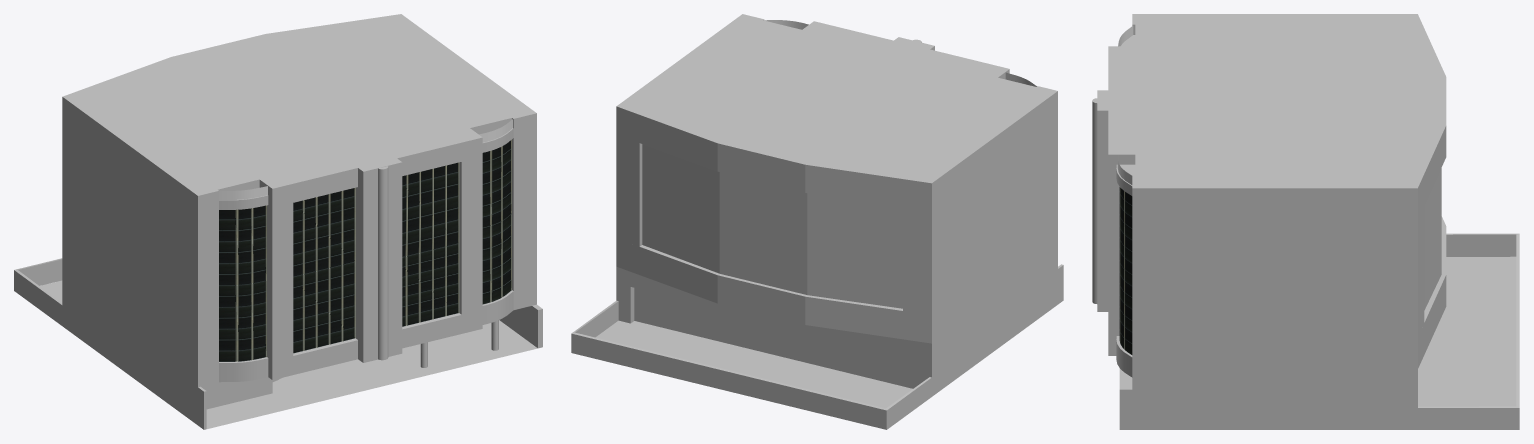
3 renders of one model, left to right at view 1: azimuth 30°, elevation 25°; view 2: azimuth 150°, elevation 25°; view 3: azimuth 270°, elevation 25°, orthographic. The views are drawn at different scales.
Visible parts, largest first — view 1: BB-050; view 2: BB-050; view 3: BB-050.
Part boxes in pixels (box(x1,y1,x2,y2)): BB-050: box(14, 14, 542, 429); BB-050: box(571, 14, 1063, 429); BB-050: box(1092, 14, 1519, 429).
Size of what is drawn, in the model's own units: 37.07 by 24.03 by 38.46.
